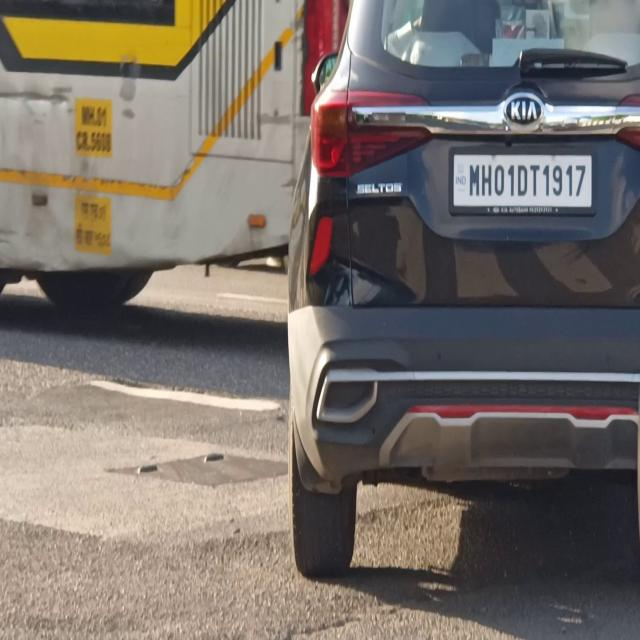Plate: (453, 151, 593, 209)
